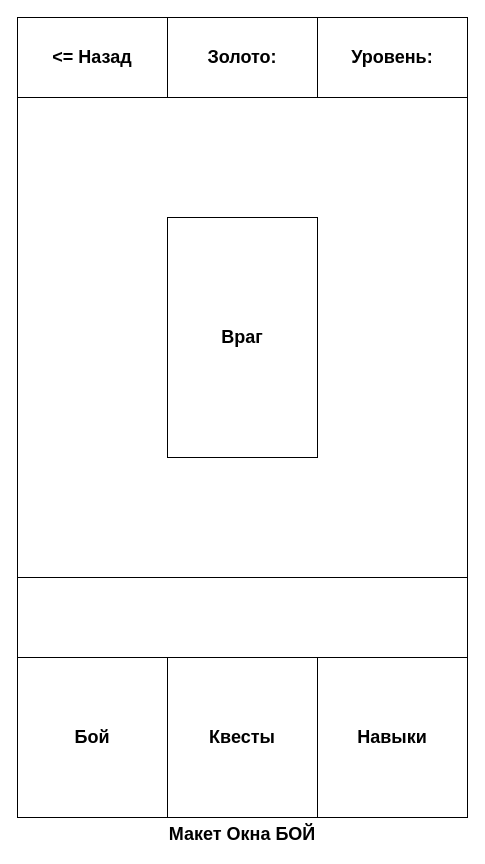
The diagram is 485 pixels wide and 864 high, and some of its shapes have lost their labels. Each missing label, with the box of its shape:
Имя врага ХП: (16, 576, 468, 658)
Локация: (16, 96, 468, 578)
